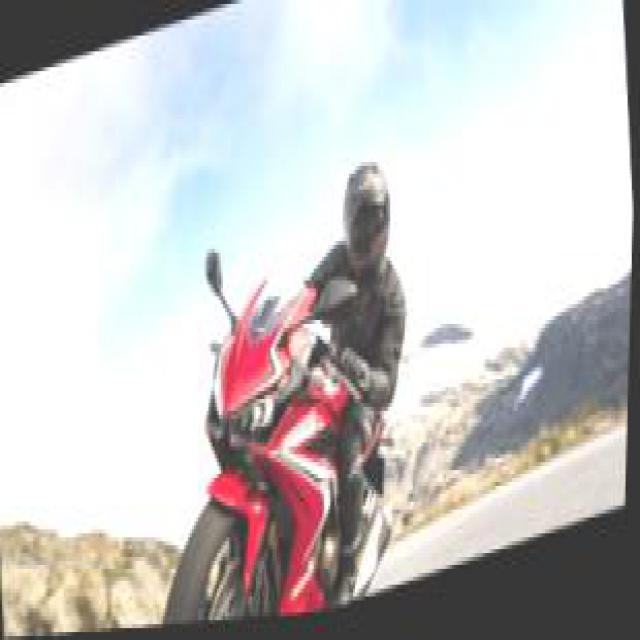CBR500R: (129, 229, 408, 628)
